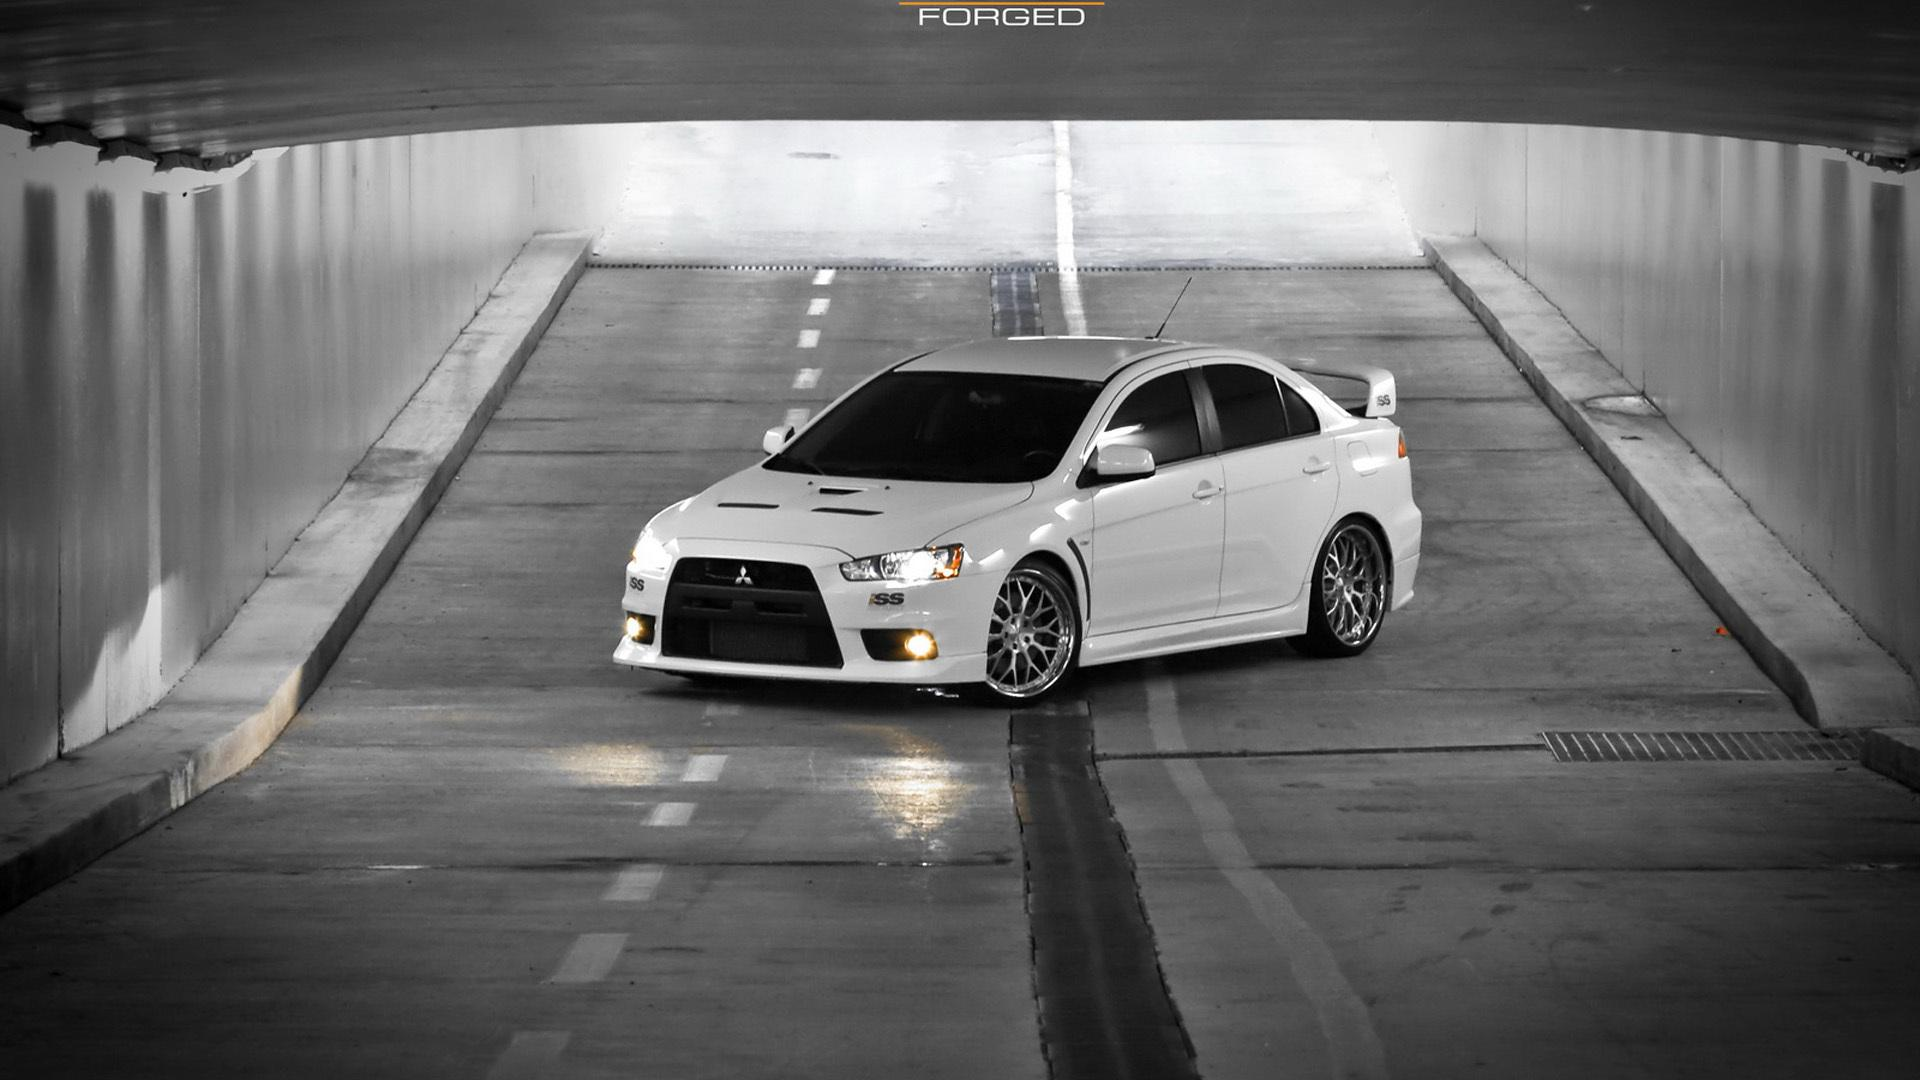Mitsubishi: (728, 554, 769, 603)
